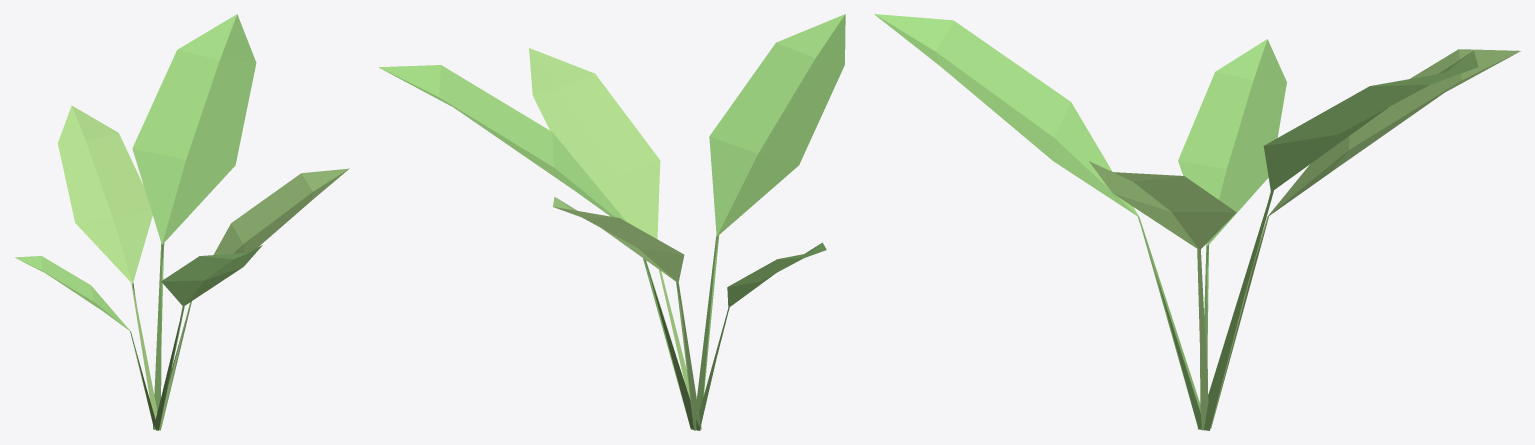
The model's file is Plant_j_TwoS_10.fbx.
3 renders of one model, left to right at view 1: azimuth 30°, elevation 25°; view 2: azimuth 150°, elevation 25°; view 3: azimuth 270°, elevation 25°, orthographic. The views are drawn at different scales.
Parts seen in each view (by area): view 1: Plant_j_TwoS_10; view 2: Plant_j_TwoS_10; view 3: Plant_j_TwoS_10.
Part boxes in pixels (box(x1,y1,x2,y2)): Plant_j_TwoS_10: box(15, 14, 349, 430); Plant_j_TwoS_10: box(379, 14, 845, 430); Plant_j_TwoS_10: box(874, 14, 1520, 430).
Bounding box in the file's own units: 0.3174 × 0.3252 × 0.3894.
